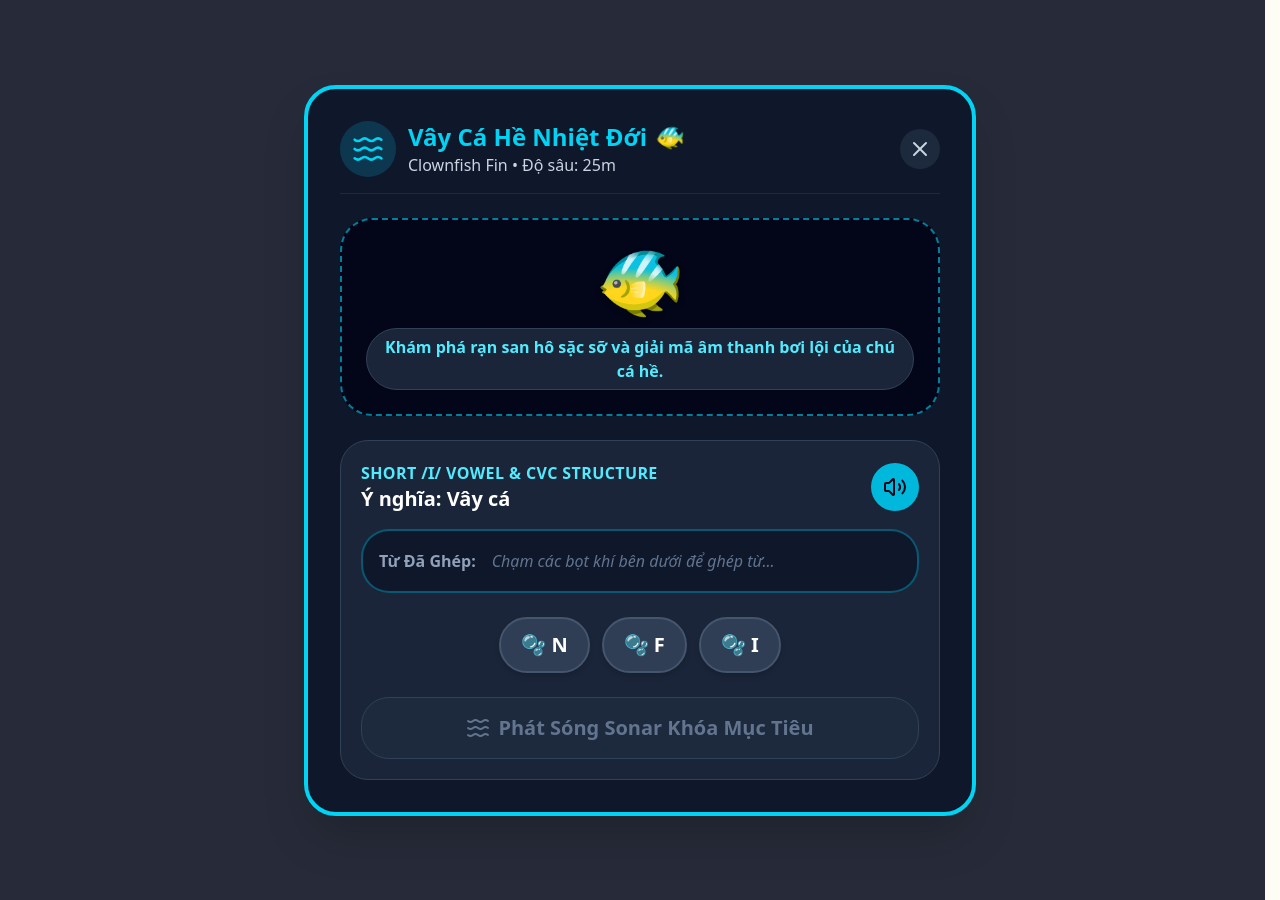
Scenario: Phonics Ocean Explorer UI Components › SubmarineSonarModal › renders sonar modal, assembles word by tapping bubbles, and completes mission on correct verification
Expected: the text "Vây Cá Hề Nhiệt Đới" is shown, [408,120,647,152]
Expected: the text "Short /ɪ/ vowel & CVC structure" is shown, [361,460,658,484]
Click the button "🫧 F": (644, 644) [602,616,687,672]
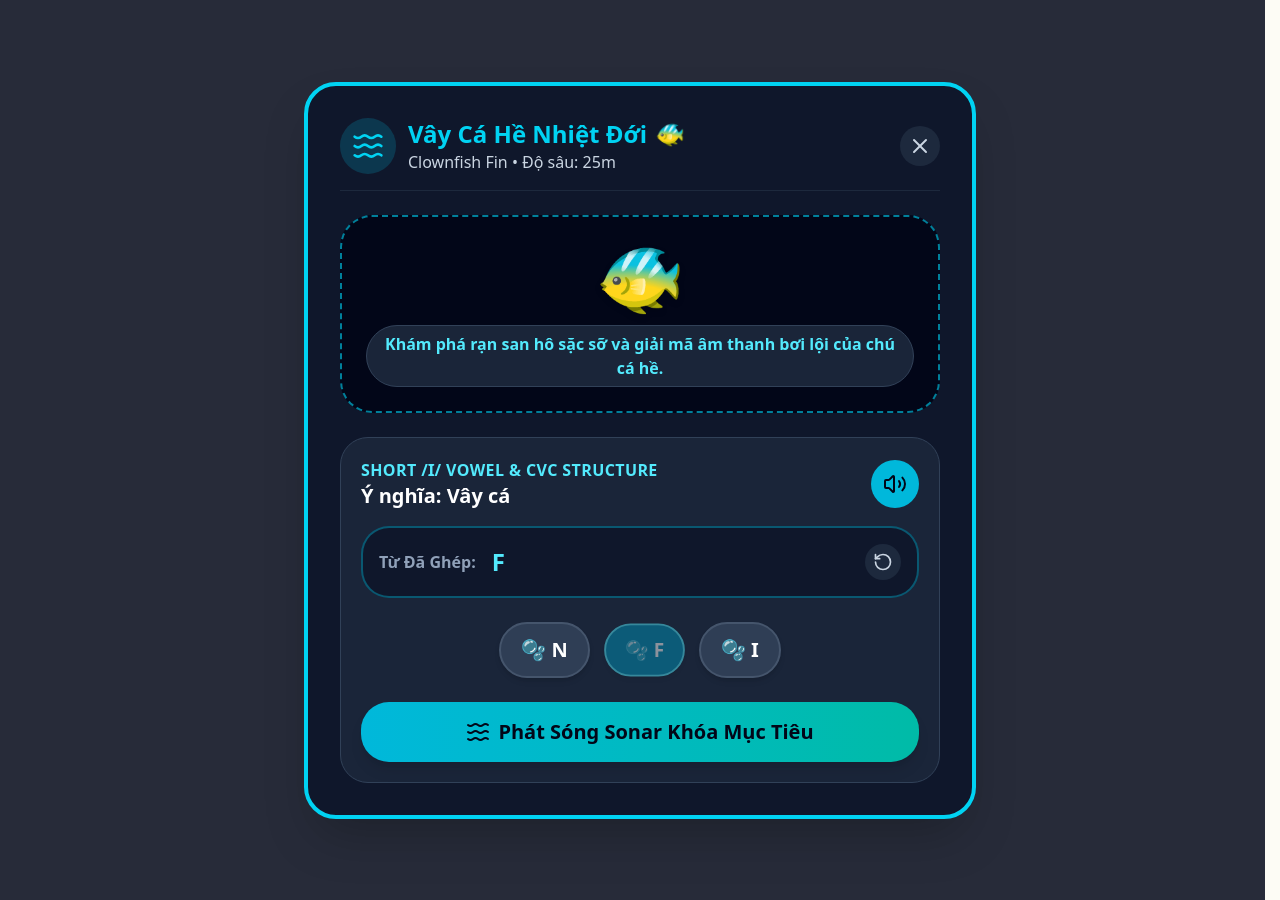
Click the button "🫧 I": (740, 650) [699,622,781,678]
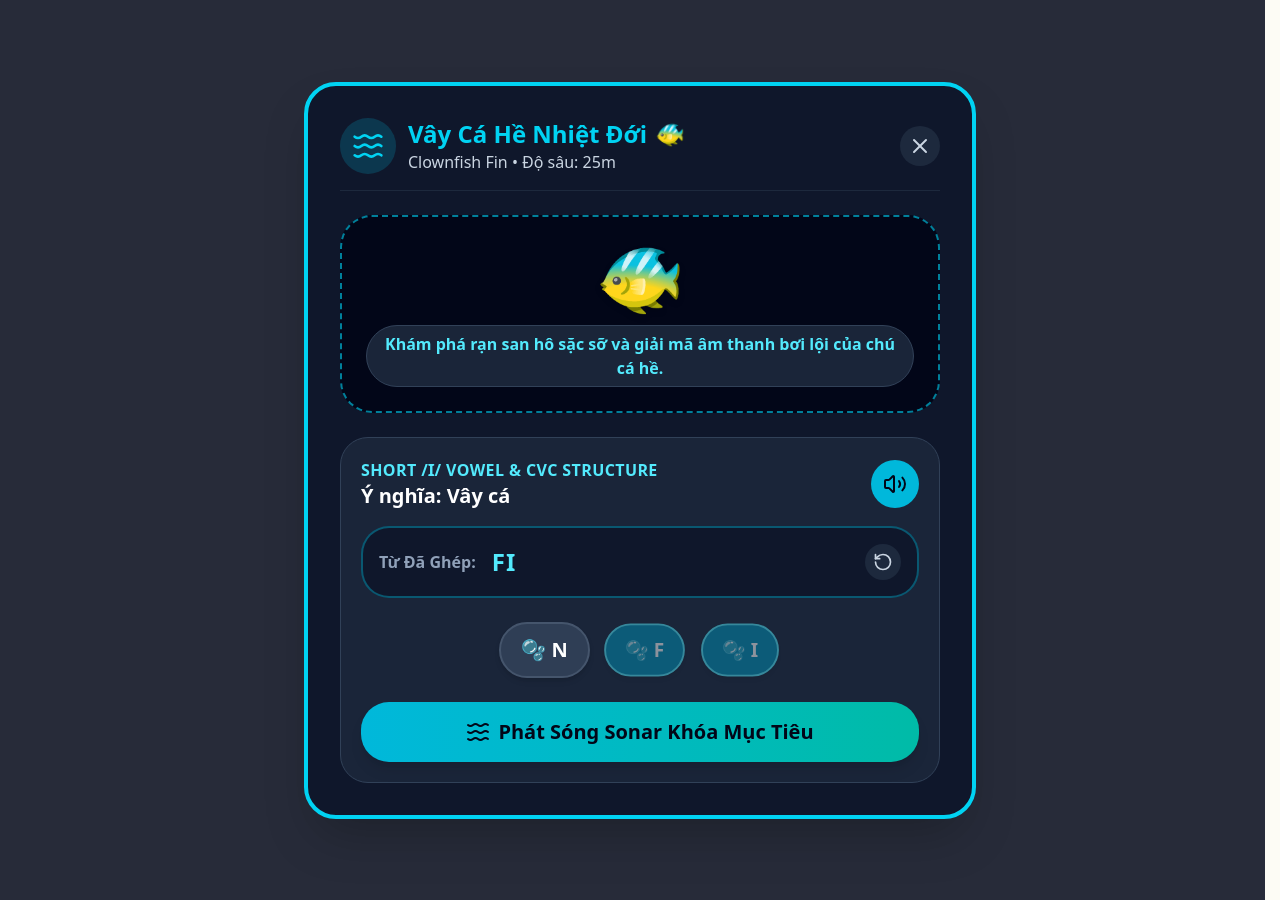
Click the button "🫧 N": (544, 650) [499,622,590,678]
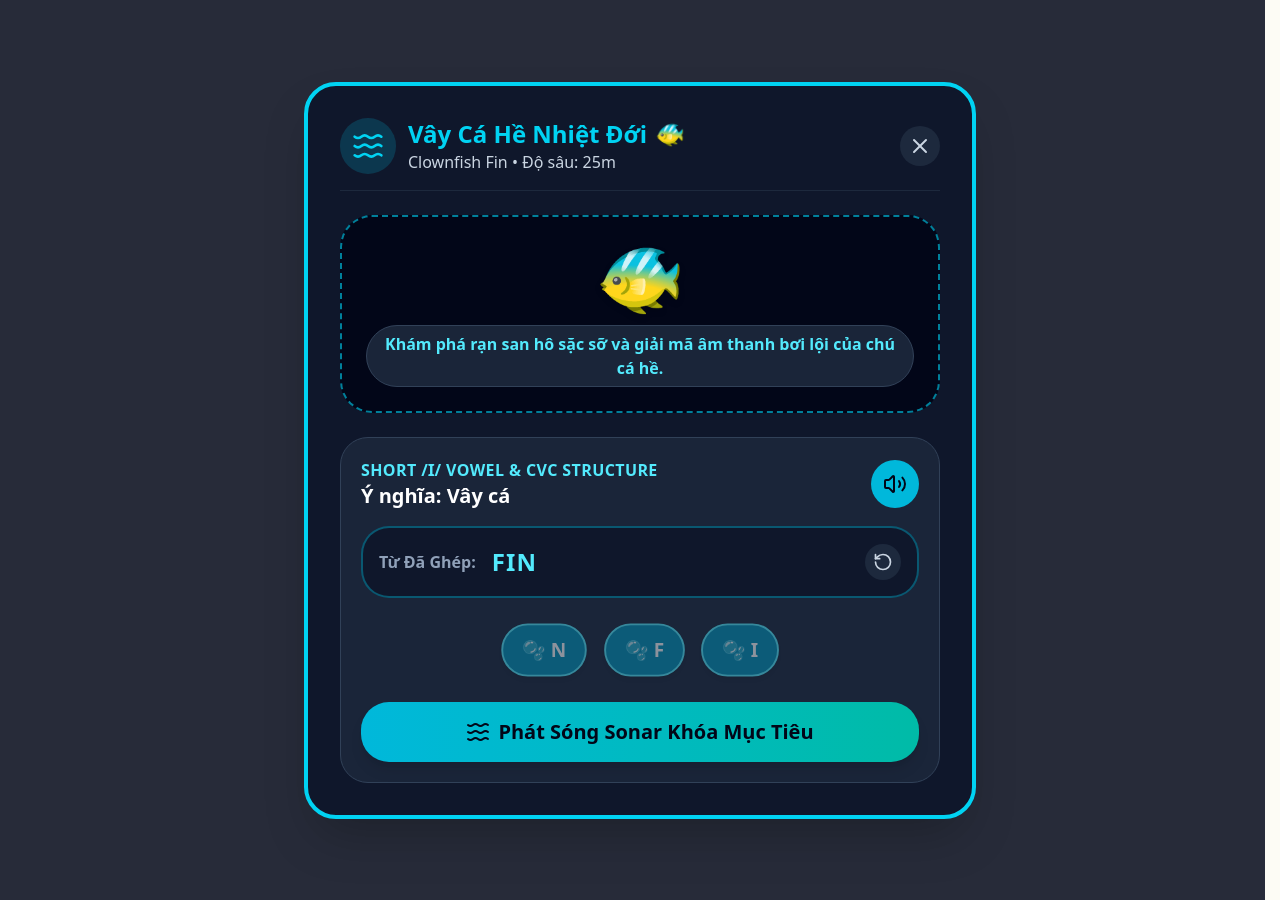
Result: the text "FIN" is shown at [492,546,537,578]
Click verification button
Click the button "Phát Sóng Sonar Khóa Mục Tiêu": (640, 732) [361,702,919,762]
Wait 1700 ms
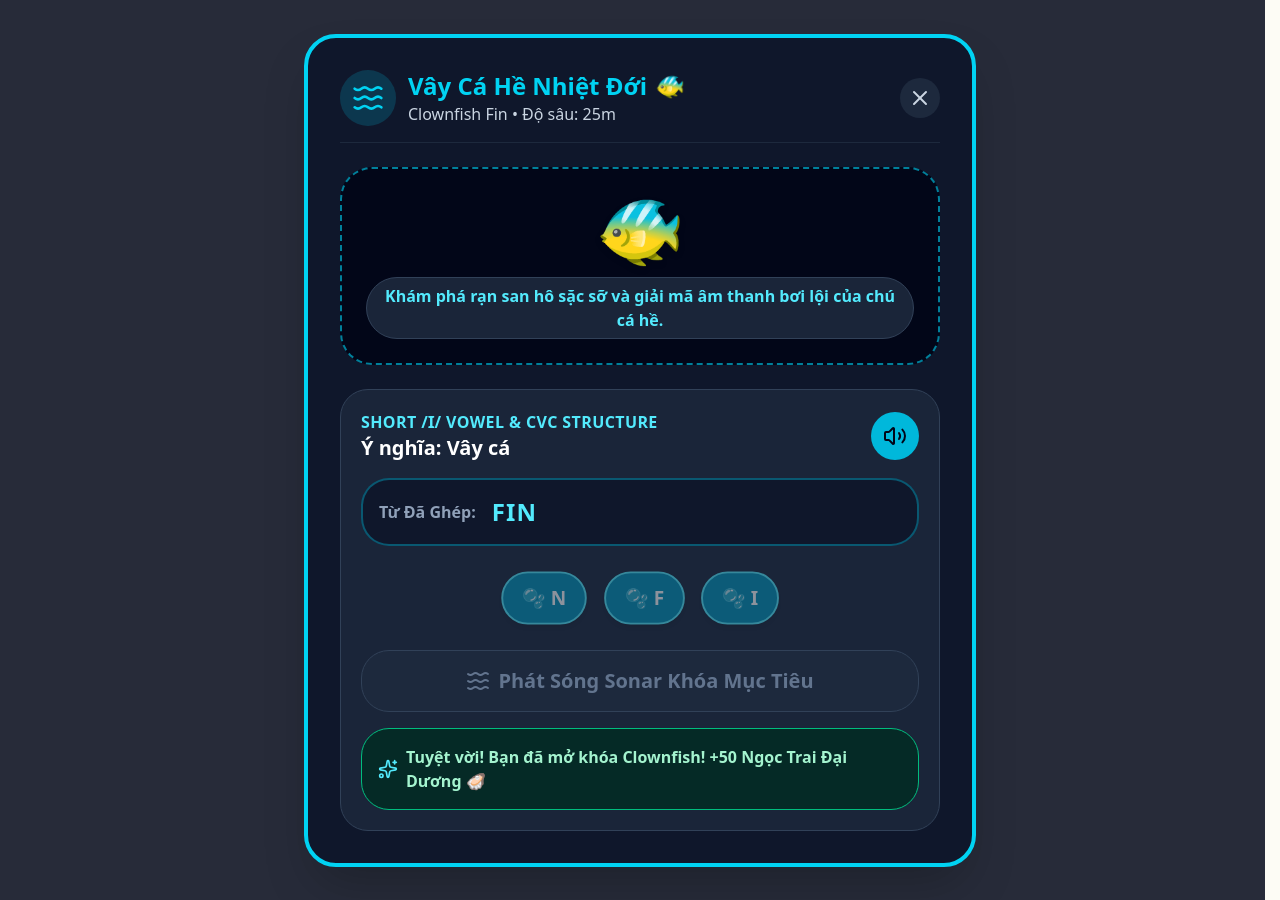
Result: the text "Tuyệt vời! Bạn đã mở khóa Clownfish" is shown at [406,746,847,792]
